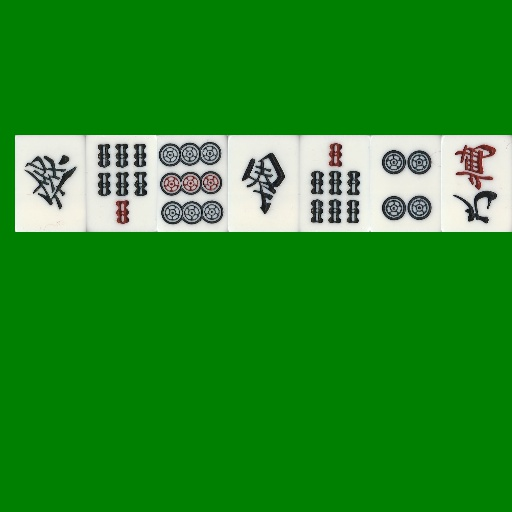4p: (370, 135, 441, 232)
7s: (86, 135, 157, 232), (299, 135, 370, 232)
9m: (441, 135, 512, 232)
9p: (157, 135, 228, 232)
hatsu: (15, 135, 86, 232)
south: (228, 135, 299, 232)
